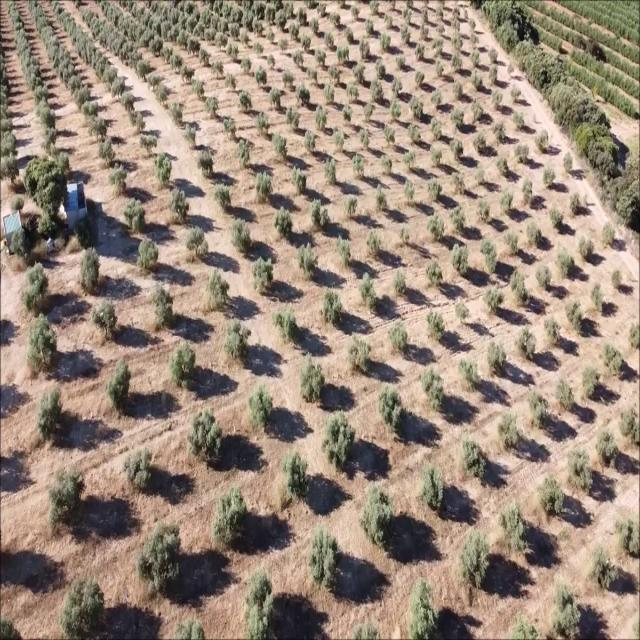trees: (136, 522, 184, 598), (457, 526, 494, 620), (357, 481, 398, 552), (240, 568, 279, 640), (324, 403, 362, 476), (210, 484, 249, 554), (63, 575, 106, 637), (308, 528, 346, 594), (21, 316, 59, 380), (404, 578, 442, 640), (187, 406, 226, 466), (496, 494, 529, 561), (47, 468, 86, 520), (550, 578, 582, 640), (15, 262, 50, 318), (376, 383, 408, 441), (36, 386, 68, 444), (534, 472, 567, 526), (167, 339, 199, 394), (280, 448, 311, 504), (125, 443, 156, 499), (297, 353, 329, 407), (89, 298, 122, 350), (104, 358, 134, 414), (76, 246, 108, 298), (564, 444, 596, 496), (418, 461, 448, 516), (420, 361, 450, 413), (224, 318, 255, 367), (593, 427, 622, 479), (588, 543, 617, 595), (270, 303, 301, 349), (494, 408, 524, 455), (151, 282, 180, 330), (204, 268, 233, 316), (524, 387, 554, 433), (249, 382, 277, 431), (344, 334, 374, 379), (182, 224, 211, 267), (134, 235, 162, 279), (598, 337, 626, 380), (293, 240, 321, 283), (251, 256, 279, 299), (320, 285, 347, 329), (484, 337, 511, 380), (228, 215, 256, 256), (122, 196, 150, 237), (618, 402, 640, 454), (464, 436, 490, 480), (168, 184, 194, 226), (250, 167, 278, 206), (150, 150, 177, 190), (514, 326, 540, 366), (456, 354, 482, 394), (552, 374, 577, 415), (208, 180, 236, 216), (615, 516, 640, 556), (562, 298, 588, 336), (423, 307, 448, 346), (580, 363, 604, 403), (386, 320, 411, 358), (308, 200, 334, 236), (356, 272, 378, 314), (105, 162, 132, 196), (333, 233, 357, 271), (508, 268, 532, 306), (194, 145, 220, 180), (272, 205, 297, 240), (479, 238, 502, 276), (482, 284, 506, 320), (449, 242, 473, 278), (422, 258, 446, 293), (362, 226, 386, 261), (540, 314, 563, 348), (96, 134, 119, 168), (573, 232, 597, 264), (424, 211, 447, 244), (553, 246, 576, 279), (288, 164, 310, 198), (181, 119, 203, 152), (270, 130, 292, 163), (389, 268, 411, 300), (588, 280, 608, 315), (138, 128, 162, 156), (0, 154, 21, 186), (532, 264, 554, 294), (524, 217, 544, 250), (236, 136, 255, 170), (23, 61, 46, 89), (373, 184, 393, 216), (167, 98, 188, 128), (349, 150, 370, 180), (501, 228, 521, 259), (598, 218, 618, 248), (220, 112, 240, 142), (0, 128, 21, 156), (342, 193, 362, 222), (87, 116, 111, 140), (34, 103, 59, 126), (321, 158, 340, 188), (453, 299, 472, 329), (450, 205, 469, 235), (625, 315, 640, 353), (236, 88, 256, 116), (566, 188, 586, 216), (547, 204, 566, 233), (475, 196, 494, 225), (283, 105, 303, 132), (254, 109, 272, 139), (302, 130, 321, 158), (313, 104, 332, 132), (520, 176, 537, 206), (532, 128, 550, 156), (425, 176, 443, 204), (607, 266, 625, 294), (56, 52, 74, 80), (41, 126, 60, 152), (408, 95, 426, 122), (538, 164, 556, 191), (204, 94, 222, 121), (130, 109, 148, 136), (490, 117, 508, 143), (514, 140, 532, 166), (380, 124, 398, 150), (450, 170, 468, 196), (396, 222, 414, 248), (93, 52, 109, 81), (497, 188, 514, 215), (406, 123, 425, 147), (60, 58, 76, 86), (449, 136, 466, 162), (449, 105, 466, 131), (428, 144, 445, 170), (473, 131, 490, 157), (192, 76, 209, 102), (333, 127, 349, 154), (494, 156, 512, 180), (402, 178, 418, 205), (55, 44, 71, 71), (403, 148, 420, 173), (111, 76, 127, 102), (74, 86, 92, 109), (121, 91, 139, 114), (370, 80, 387, 104), (428, 115, 443, 142), (156, 84, 172, 109), (32, 86, 52, 106), (474, 166, 492, 188), (8, 191, 26, 213), (104, 64, 118, 92), (512, 109, 529, 132), (296, 85, 313, 108), (136, 58, 153, 81), (387, 99, 403, 123), (380, 154, 396, 178), (357, 127, 372, 152), (269, 86, 284, 111), (428, 89, 445, 111), (468, 101, 484, 124), (83, 100, 103, 118), (352, 62, 368, 84), (78, 36, 91, 63), (357, 37, 372, 60), (561, 150, 576, 173), (68, 74, 84, 95), (336, 44, 352, 65), (180, 63, 196, 84), (239, 56, 254, 78), (45, 39, 60, 61), (85, 43, 98, 68), (341, 102, 355, 125), (362, 102, 376, 125), (389, 78, 404, 99), (346, 83, 361, 104), (469, 70, 483, 92), (146, 71, 161, 91), (379, 32, 393, 53), (322, 83, 336, 104), (452, 79, 466, 100), (490, 90, 504, 111), (282, 69, 296, 90), (211, 59, 225, 80), (254, 65, 267, 87), (399, 25, 412, 47), (290, 49, 305, 68), (413, 68, 427, 88), (375, 60, 389, 80), (223, 70, 237, 90), (149, 35, 163, 55), (63, 15, 76, 36), (328, 64, 342, 83), (118, 43, 130, 65), (199, 48, 212, 68), (451, 54, 464, 74), (510, 85, 523, 105), (228, 44, 241, 64), (172, 54, 185, 74), (315, 49, 328, 68), (308, 65, 321, 84), (288, 22, 300, 42), (70, 28, 82, 48), (431, 37, 444, 55), (302, 33, 314, 52), (415, 41, 427, 60), (433, 60, 445, 79), (277, 12, 289, 31), (84, 7, 96, 26), (39, 28, 53, 44), (394, 55, 407, 72), (452, 32, 465, 49), (111, 36, 122, 56), (324, 31, 336, 49), (350, 2, 362, 20), (239, 29, 251, 47), (187, 37, 199, 55), (469, 49, 480, 68), (178, 30, 189, 49), (364, 19, 376, 36), (345, 27, 357, 44), (310, 18, 321, 36), (267, 54, 278, 72), (488, 66, 499, 84), (35, 15, 48, 30), (252, 40, 264, 56), (419, 25, 431, 41), (267, 4, 277, 23), (163, 45, 174, 62), (206, 26, 217, 43), (6, 2, 18, 17), (278, 37, 289, 53), (317, 2, 328, 18), (295, 7, 306, 23), (488, 49, 499, 65), (253, 22, 264, 38), (55, 2, 66, 18), (404, 6, 415, 22), (254, 0, 264, 17), (232, 24, 242, 41), (233, 5, 243, 22), (332, 11, 343, 26), (266, 29, 277, 44), (384, 12, 394, 28), (244, 11, 254, 27), (420, 7, 430, 23), (284, 1, 294, 17), (468, 32, 479, 46), (367, 0, 378, 14), (196, 24, 207, 38), (219, 19, 228, 35), (222, 1, 230, 17), (307, 0, 318, 10), (337, 0, 349, 9), (72, 0, 84, 9), (388, 0, 398, 10), (405, 0, 417, 7)
